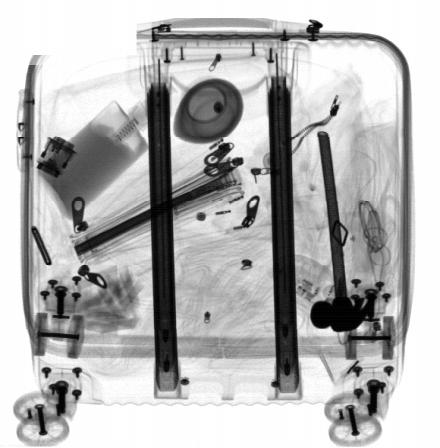Hammer: (309, 130, 377, 332)
